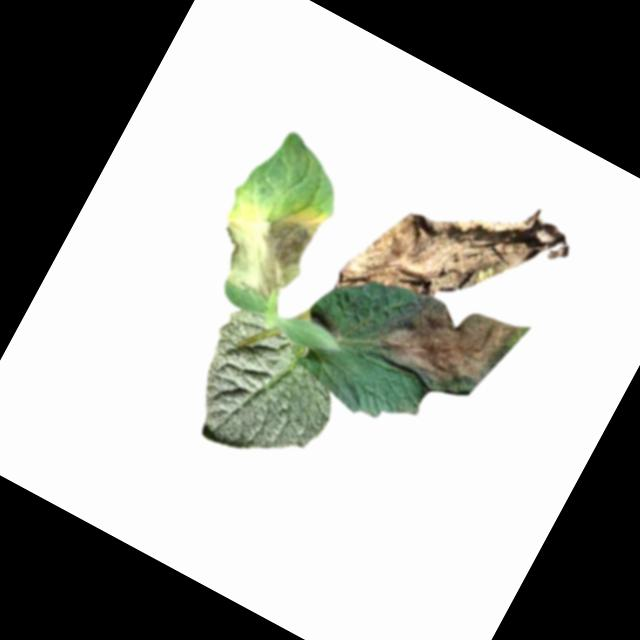Late_blight: (331, 139, 581, 377), (367, 268, 523, 413), (198, 180, 327, 311)
healthy: (169, 300, 356, 484)
